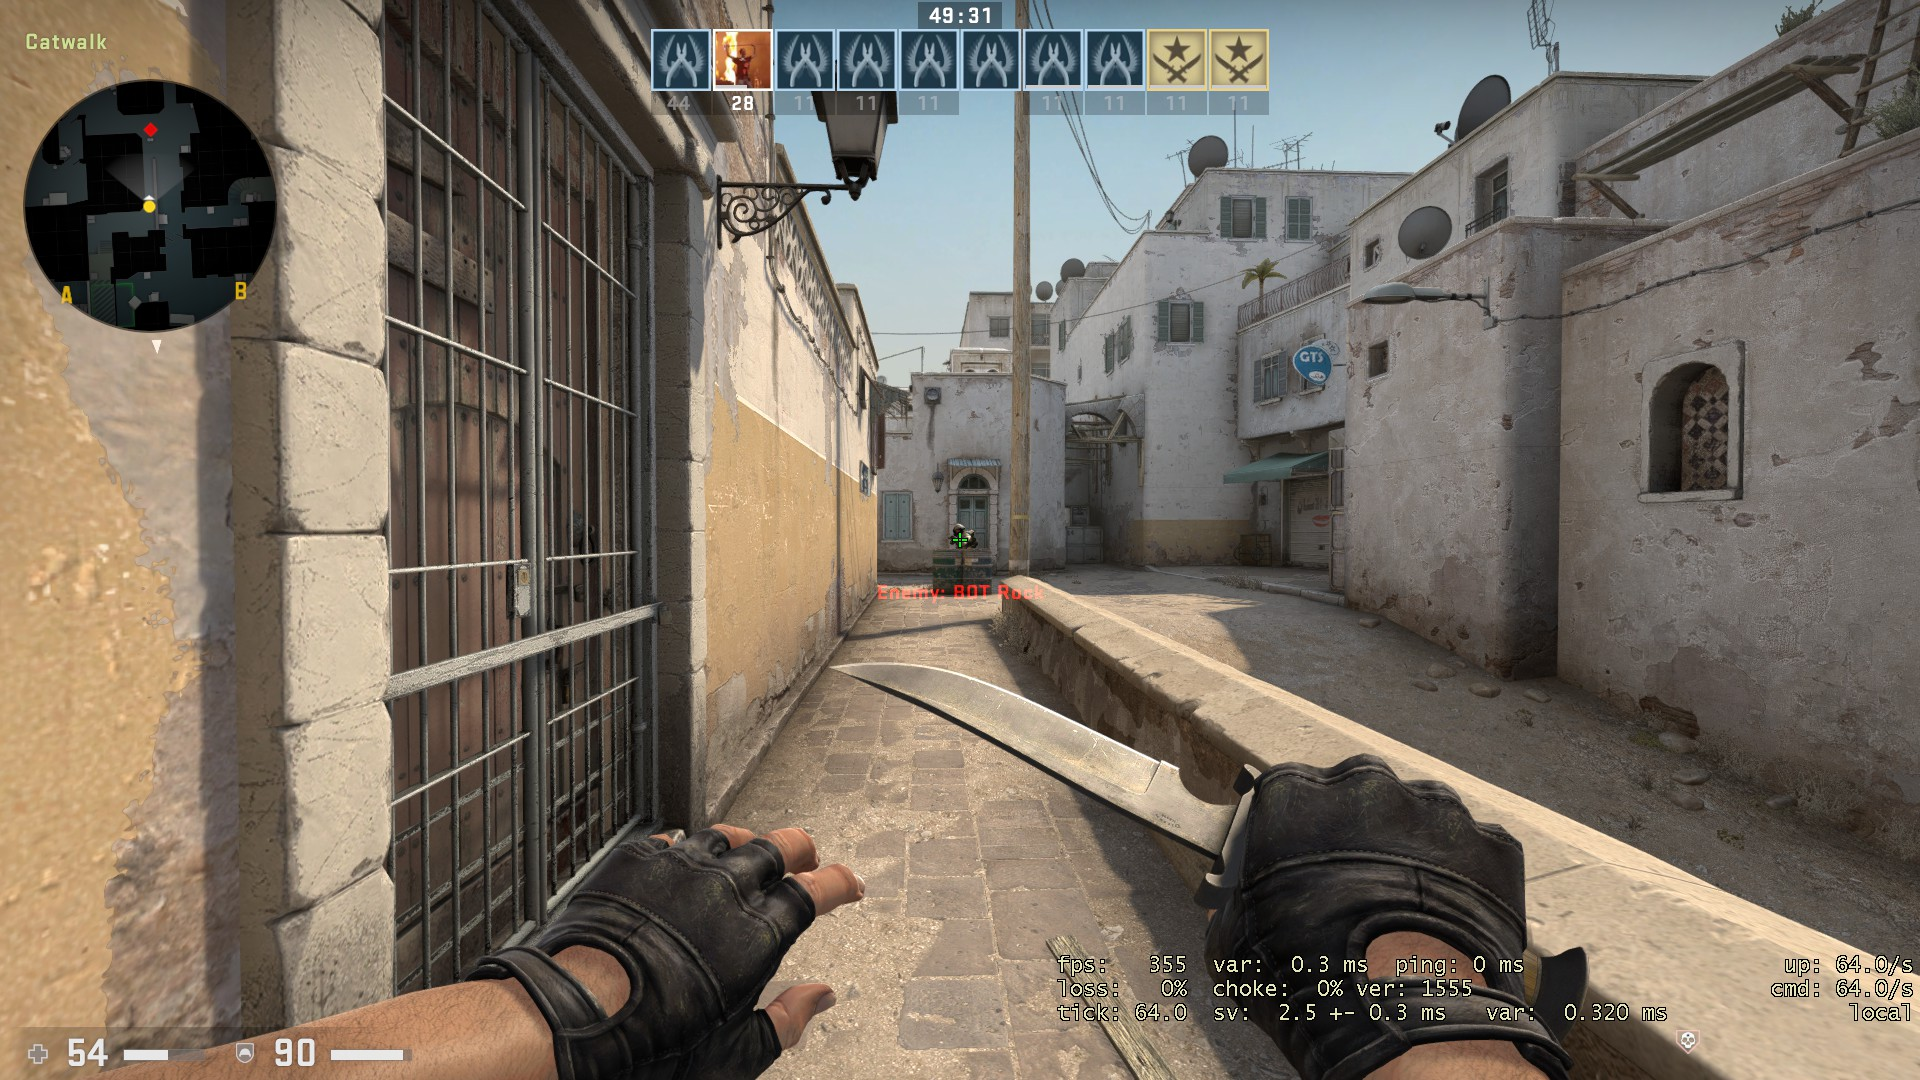player: (942, 516, 978, 555)
